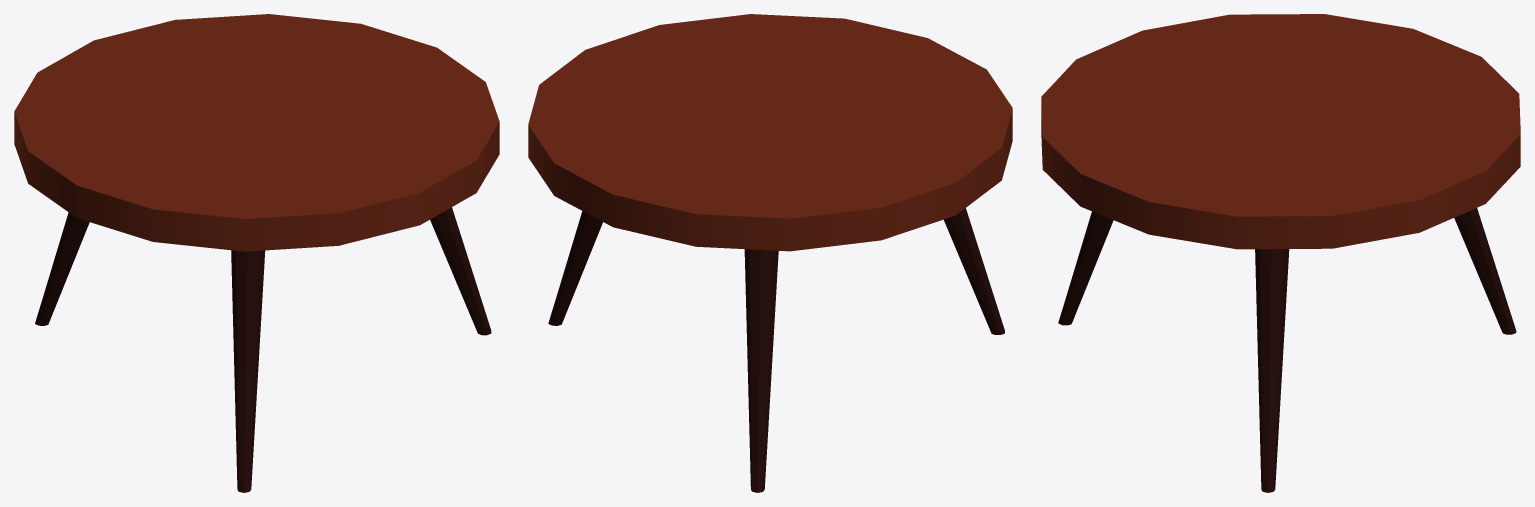
The model's file is Table.fbx.
The picture shows the model from 3 angles, left to right: view 1: azimuth 30°, elevation 25°; view 2: azimuth 150°, elevation 25°; view 3: azimuth 270°, elevation 25°; orthographic projection.
Parts seen in each view (by area): view 1: Circle.012; view 2: Circle.012; view 3: Circle.012.
Part boxes in pixels (x1,y1,x2,y2): Circle.012: (14,14,499,492); Circle.012: (528,14,1012,492); Circle.012: (1041,14,1520,492).
Size of the model in its own units: 14.6 by 8.51 by 13.9.
